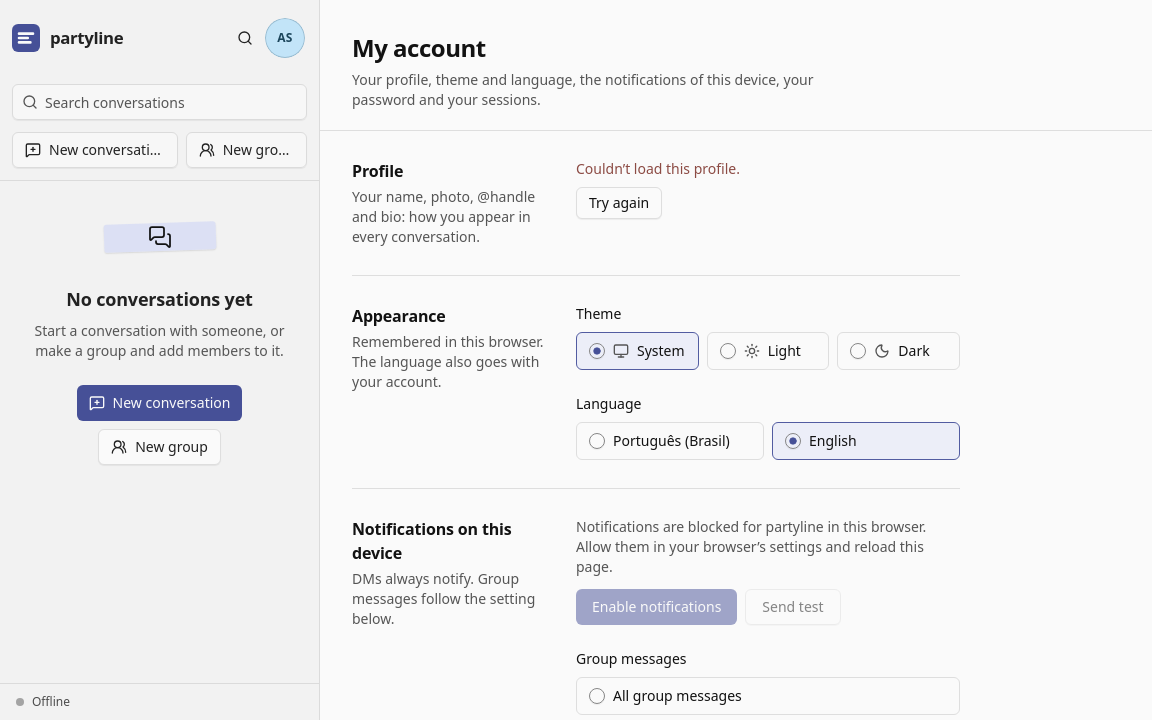
Test: authenticated shell › lists the destinations in the account menu, without the admin section for members, and marks the current page
This screenshot has width=1152, height=720.
Step 1. Click the button with aria-label "Account menu" → (285, 38), box [263,16,307,60]
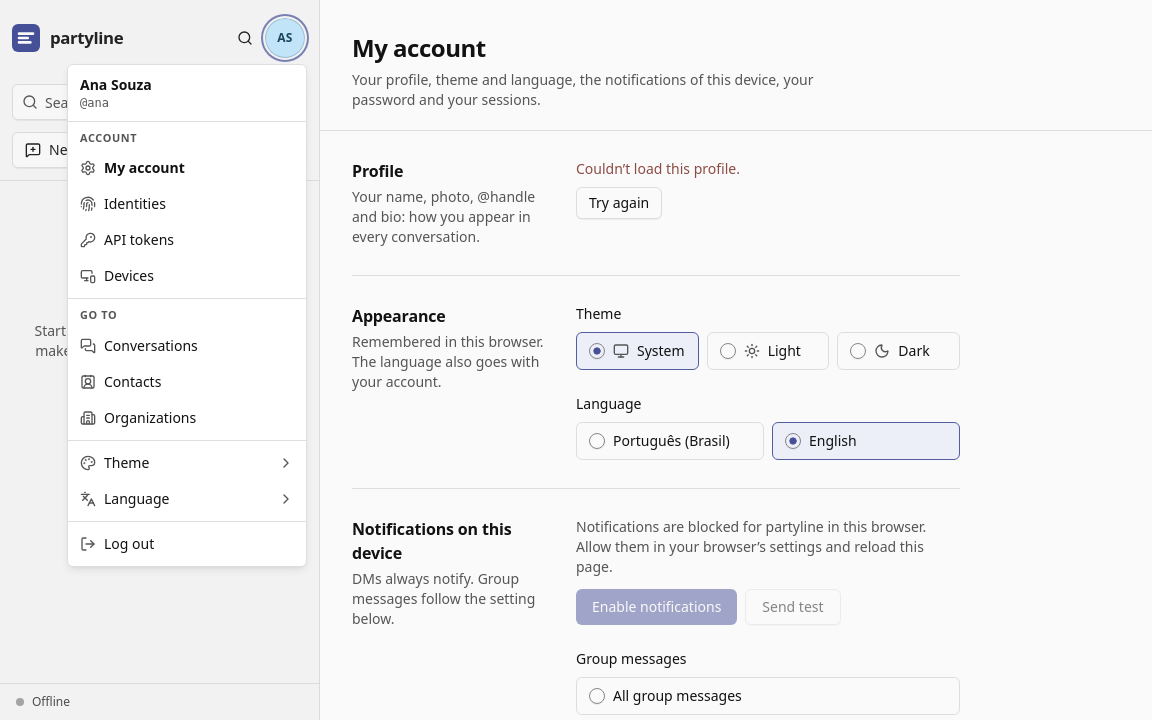
Expected: the menu item "My account" is shown, [80,158,185,177]
Expected: the menu item "Identities" is shown, [80,194,166,213]
Expected: the menu item "API tokens" is shown, [80,230,174,249]
